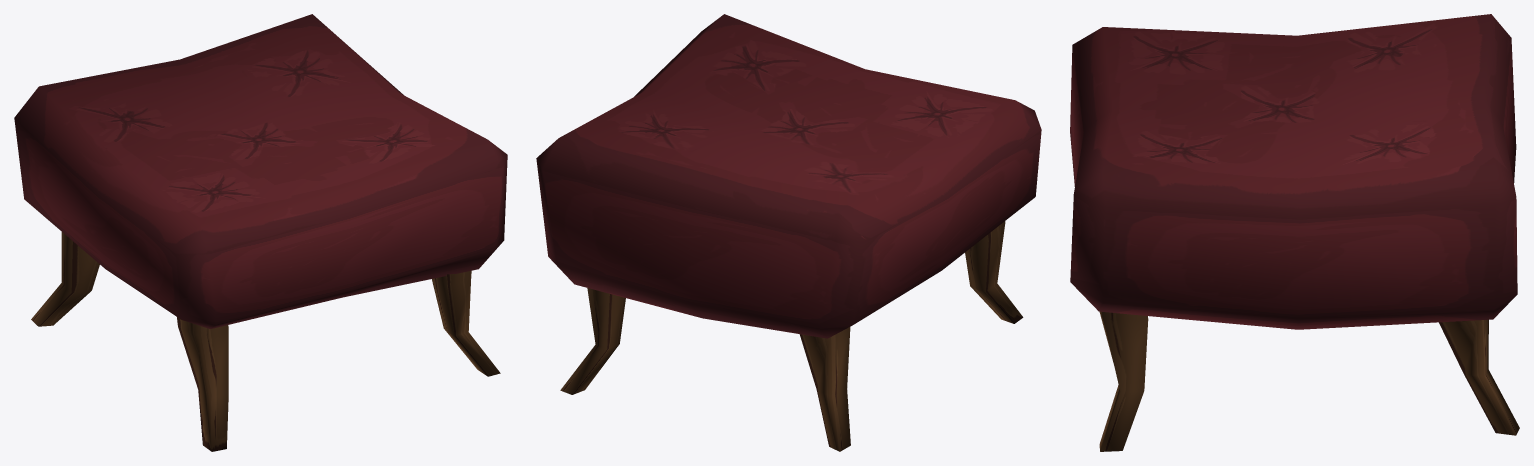
Rendered from SM_PROP_sofa_footrest_interior.fbx.
3 views of the same model, side by side, from view 1: azimuth 30°, elevation 25°; view 2: azimuth 150°, elevation 25°; view 3: azimuth 270°, elevation 25° (orthographic). The views are drawn at different scales.
Visible parts, largest first — view 1: SM_PROP_sofa_footrest_interior; view 2: SM_PROP_sofa_footrest_interior; view 3: SM_PROP_sofa_footrest_interior.
Part boxes in pixels (<box>): SM_PROP_sofa_footrest_interior: <box>14,14,507,451</box>; SM_PROP_sofa_footrest_interior: <box>536,14,1041,451</box>; SM_PROP_sofa_footrest_interior: <box>1070,14,1519,451</box>.
Size of the model in its own units: 63.24 by 43.35 by 63.78.
